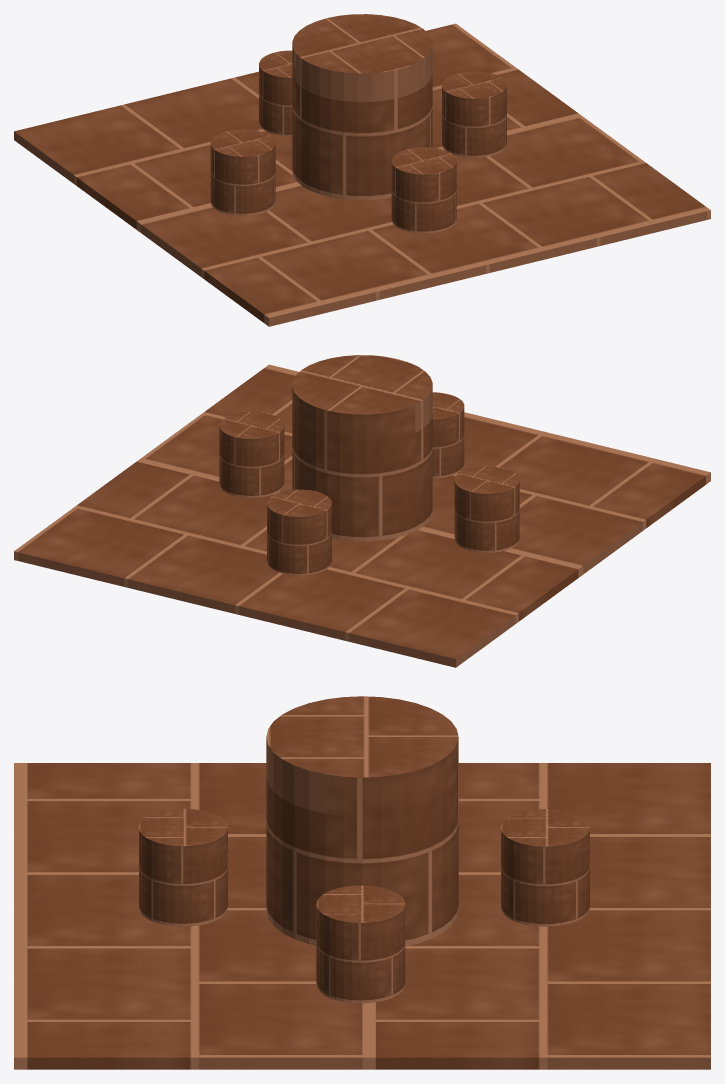
File: pillars.fbx
3 views of the same model, one above another, from view 1: azimuth 30°, elevation 25°; view 2: azimuth 150°, elevation 25°; view 3: azimuth 270°, elevation 25° (orthographic). The views are drawn at different scales.
Parts seen in each view (by area): view 1: Cylinder, Cylinder.003, Cylinder.002, Cylinder.004, Cylinder.001; view 2: Cylinder, Cylinder.003, Cylinder.004, Cylinder.001, Cylinder.002; view 3: Cylinder, Cylinder.004, Cylinder.002, Cylinder.001.
Part boxes in pixels (box(x1,y1,x2,y2)): Cylinder: box(14, 14, 710, 326); Cylinder.003: box(210, 129, 275, 215); Cylinder.002: box(391, 147, 456, 233); Cylinder.004: box(442, 71, 506, 157); Cylinder.001: box(259, 50, 292, 136); Cylinder: box(14, 355, 710, 667); Cylinder.003: box(454, 466, 519, 552); Cylinder.004: box(219, 411, 284, 497); Cylinder.001: box(267, 489, 331, 575); Cylinder.002: box(432, 392, 464, 478); Cylinder: box(14, 696, 710, 1069); Cylinder.004: box(316, 885, 405, 1003); Cylinder.002: box(139, 808, 227, 926); Cylinder.001: box(501, 809, 589, 926).
Bounding box in the file's own units: 1974 × 580 × 1974.
